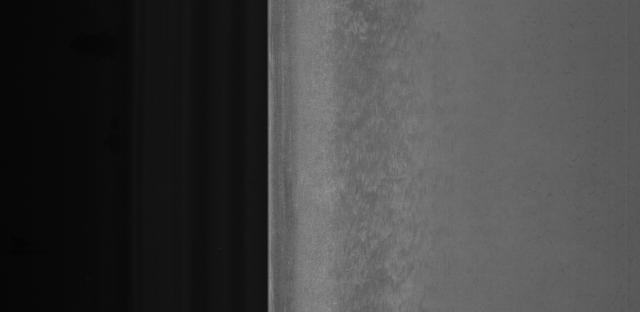silk_spot: (325, 23, 428, 304)
